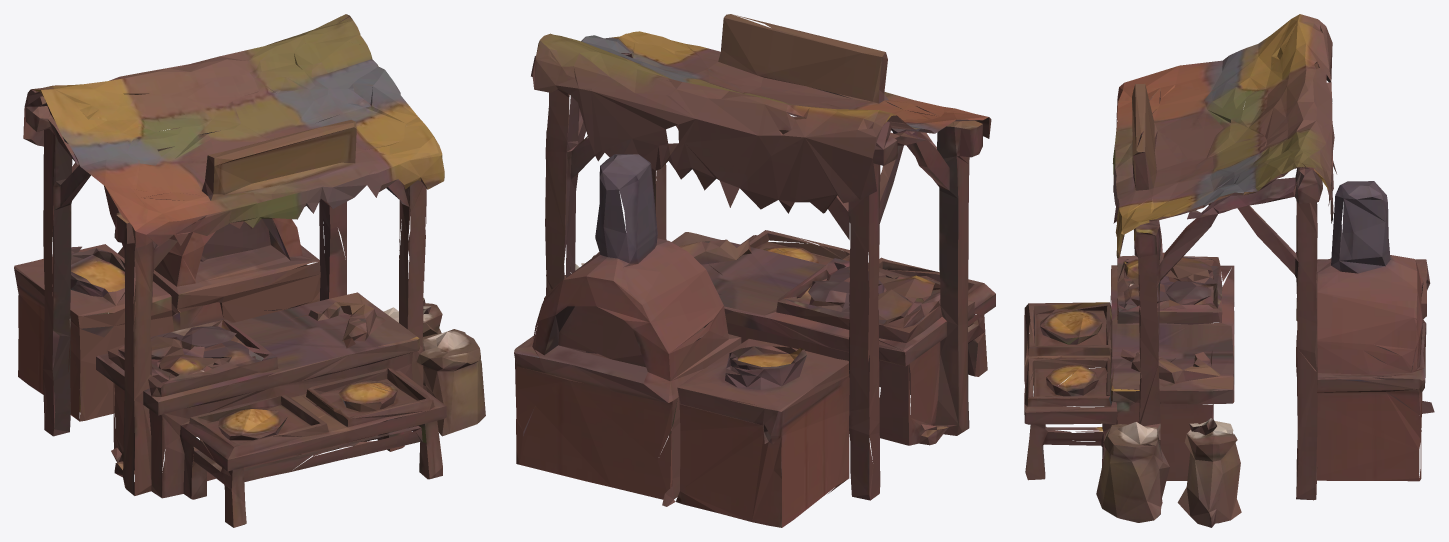
The model's file is stall_pies.glb.
3 renders of one model, left to right at view 1: azimuth 30°, elevation 25°; view 2: azimuth 150°, elevation 25°; view 3: azimuth 270°, elevation 25°, orthographic. The views are drawn at different scales.
Parts seen in each view (by area): view 1: geometry_0; view 2: geometry_0; view 3: geometry_0.
Part boxes in pixels (left/top/right/bottom): geometry_0: left=14, top=14, right=485, bottom=527; geometry_0: left=514, top=14, right=995, bottom=527; geometry_0: left=1024, top=14, right=1434, bottom=527.
Size of the model in its own units: 2.1 by 1.84 by 2.
1 material, 1 textured.
